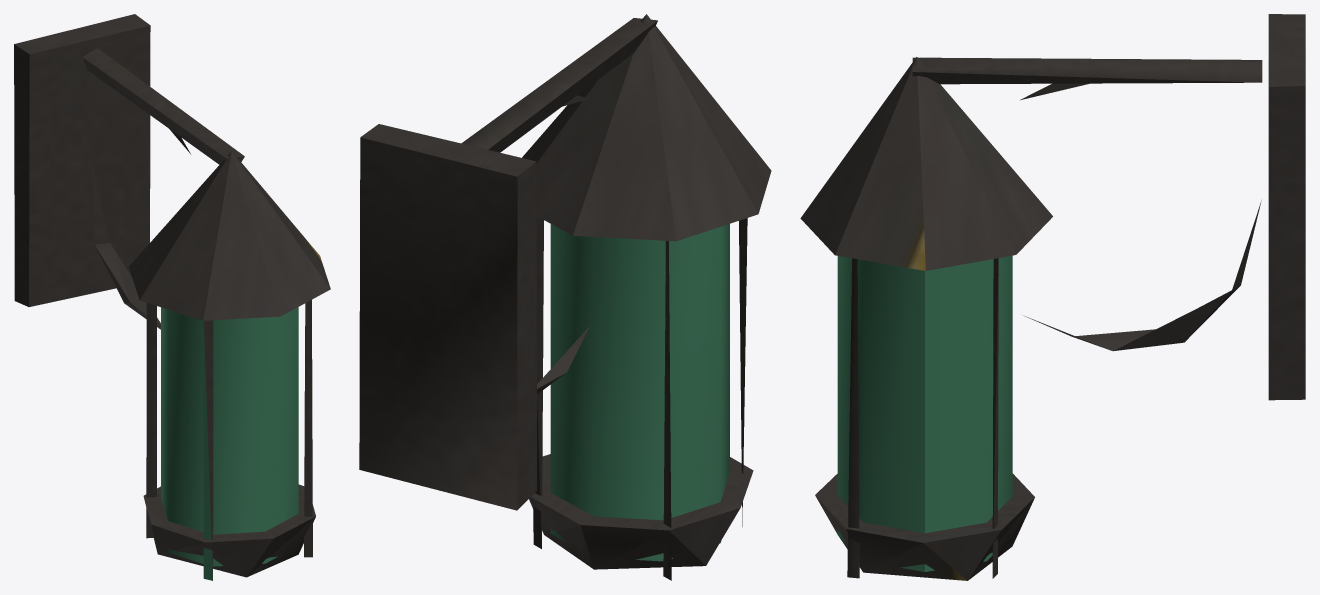
Rendered from wall_lantern_lod2.glb.
3 renders of one model, left to right at view 1: azimuth 30°, elevation 25°; view 2: azimuth 150°, elevation 25°; view 3: azimuth 270°, elevation 25°, orthographic. The views are drawn at different scales.
Parts seen in each view (by area): view 1: wall_lantern; view 2: wall_lantern; view 3: wall_lantern.
Part boxes in pixels (left/top/right/bottom): wall_lantern: left=14, top=14, right=330, bottom=580; wall_lantern: left=359, top=14, right=771, bottom=580; wall_lantern: left=800, top=14, right=1305, bottom=580.
Size of the model in its own units: 0.2055 by 0.4394 by 0.4047.
1 material, 1 textured.
